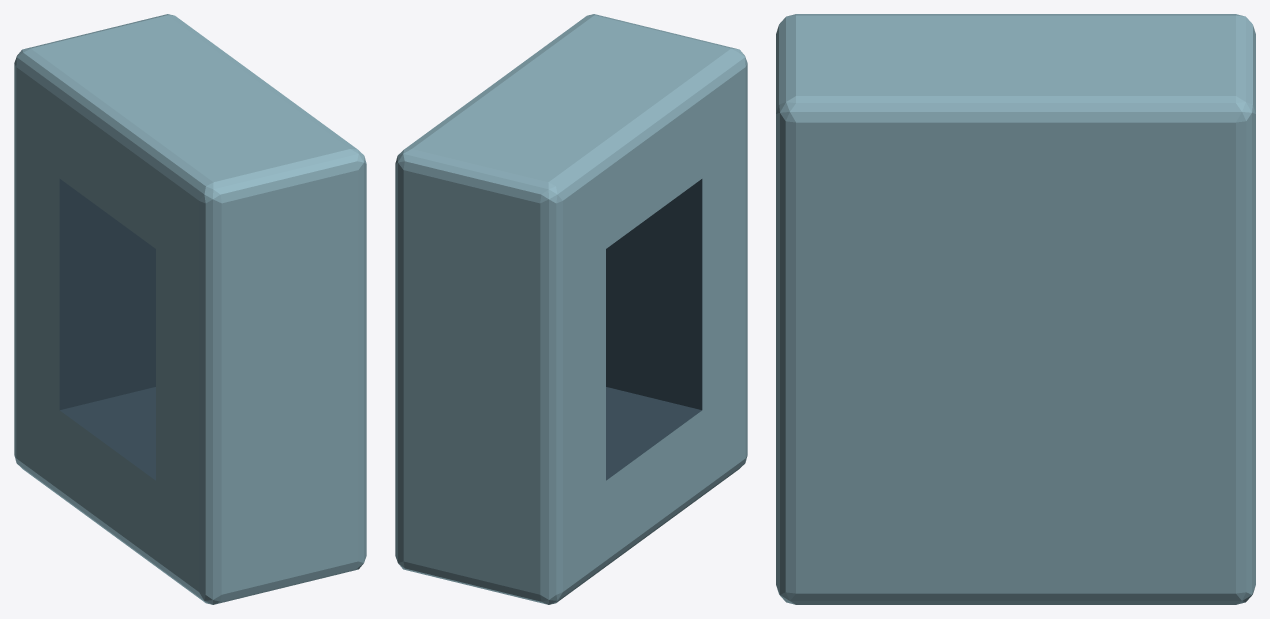
3 views of the same model, side by side, from view 1: azimuth 30°, elevation 25°; view 2: azimuth 150°, elevation 25°; view 3: azimuth 270°, elevation 25° (orthographic). The views are drawn at different scales.
Parts seen in each view (by area): view 1: geometry_0; view 2: geometry_0; view 3: geometry_0.
Boxes of the visible parts, box(x1,y1,x2,y2) form: geometry_0: box(14, 14, 366, 604); geometry_0: box(395, 14, 747, 604); geometry_0: box(776, 14, 1255, 604).
Bounding box in the file's own units: 0.0115 × 0.028 × 0.024.
1 material, 1 textured.
